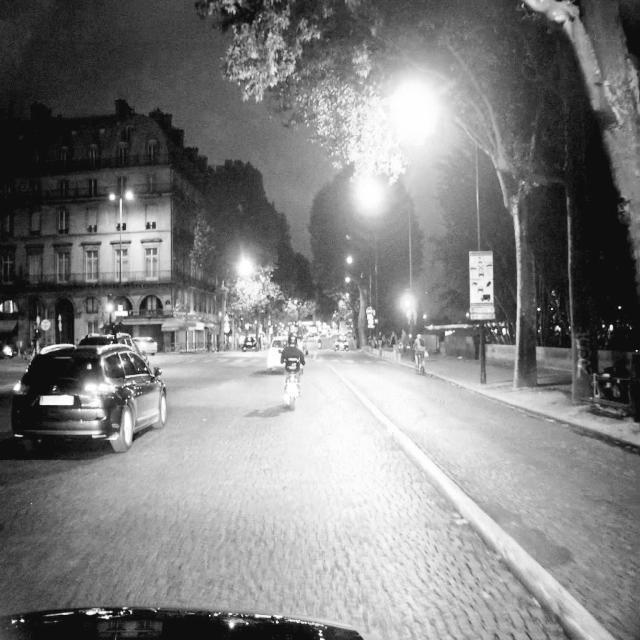Car: (17, 332, 169, 456)
Sign: (468, 250, 497, 322)
Tree: (572, 0, 640, 298), (497, 19, 545, 391)
